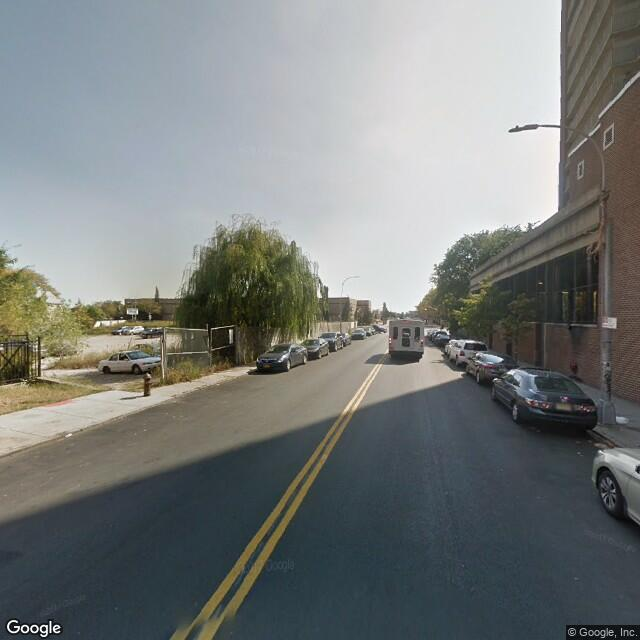litter: (526, 418, 544, 434), (615, 416, 632, 424), (595, 440, 608, 449), (63, 432, 74, 438), (575, 450, 583, 458)
